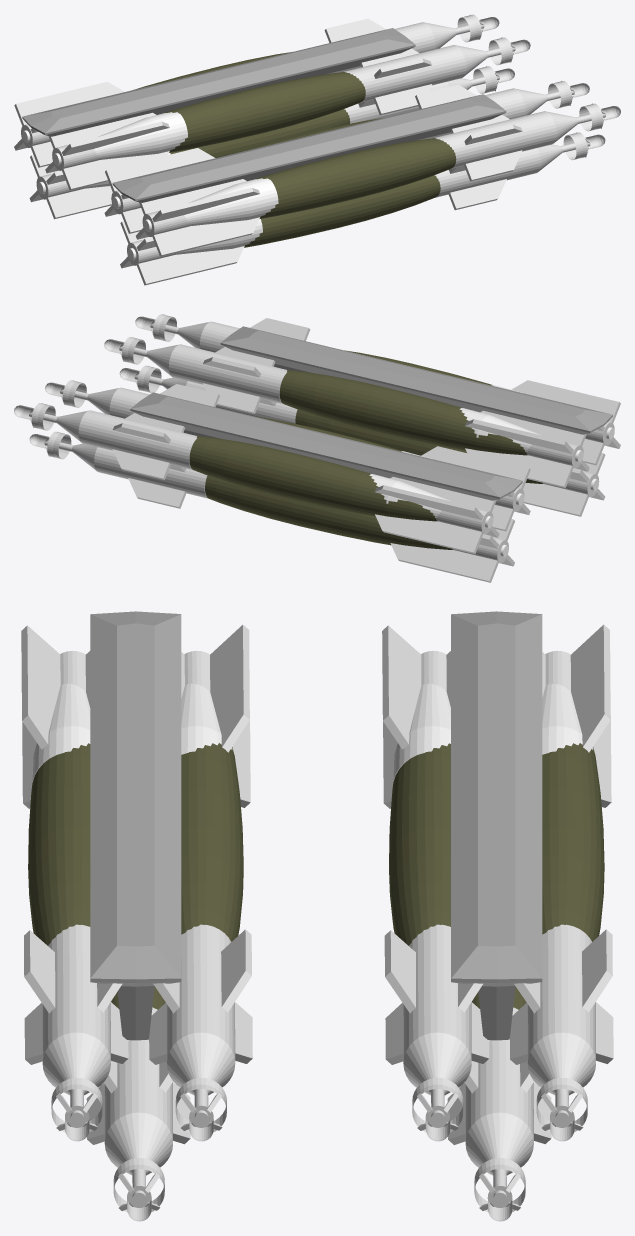
Rendered from a10cgbu1256.glb.
3 renders of one model, top to bottom at view 1: azimuth 30°, elevation 25°; view 2: azimuth 150°, elevation 25°; view 3: azimuth 270°, elevation 25°, orthographic. The views are drawn at different scales.
Parts seen in each view (by area): view 1: 円柱.030, 円柱.026, 円柱.031, 立方体.010, 立方体.009, 円柱.028, 円柱.032, 円柱.029; view 2: 円柱.029, 円柱.032, 円柱.028, 立方体.010, 立方体.009, 円柱.031, 円柱.030, 円柱.026; view 3: 立方体.009, 立方体.010, 円柱.032, 円柱.029, 円柱.030, 円柱.026, 円柱.031, 円柱.028.
Part boxes in pixels (bbox=[...]): 円柱.030: bbox=[136, 103, 620, 256]; 円柱.026: bbox=[45, 37, 530, 190]; 円柱.031: bbox=[120, 132, 605, 285]; 立方体.010: bbox=[112, 94, 506, 202]; 立方体.009: bbox=[22, 28, 415, 136]; 円柱.028: bbox=[29, 66, 514, 219]; 円柱.032: bbox=[104, 80, 589, 233]; 円柱.029: bbox=[14, 14, 499, 167]; 円柱.029: bbox=[14, 403, 499, 553]; 円柱.032: bbox=[104, 337, 589, 487]; 円柱.028: bbox=[29, 431, 514, 582]; 立方体.010: bbox=[220, 326, 612, 434]; 立方体.009: bbox=[130, 392, 522, 500]; 円柱.031: bbox=[119, 365, 605, 516]; 円柱.030: bbox=[135, 314, 620, 465]; 円柱.026: bbox=[45, 380, 530, 531]; 立方体.009: bbox=[451, 611, 542, 1040]; 立方体.010: bbox=[90, 611, 181, 1040]; 円柱.032: bbox=[149, 625, 252, 1141]; 円柱.029: bbox=[510, 624, 613, 1141]; 円柱.030: bbox=[21, 625, 128, 1141]; 円柱.026: bbox=[382, 625, 489, 1141]; 円柱.031: bbox=[86, 986, 190, 1221]; 円柱.028: bbox=[447, 987, 551, 1221].
Size of the model in its own units: 3.76 by 0.699 by 1.99.
Materials: 4 (1 with a texture image).
